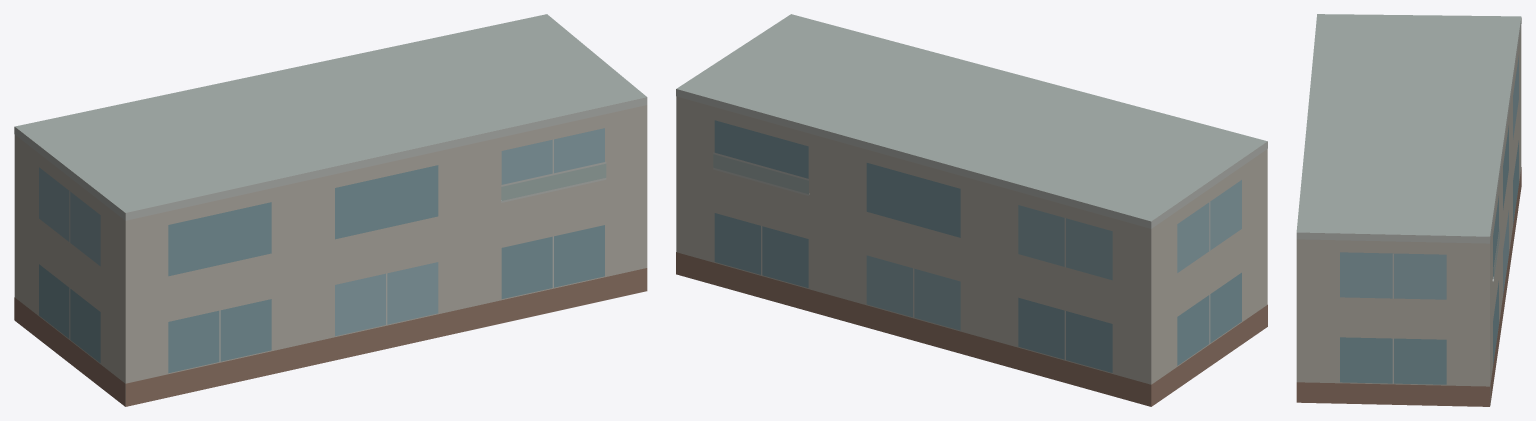
The model's file is survey-upis-32858110.glb.
3 views of the same model, side by side, from view 1: azimuth 30°, elevation 25°; view 2: azimuth 150°, elevation 25°; view 3: azimuth 270°, elevation 25° (orthographic). The views are drawn at different scales.
Parts seen in each view (by area): view 1: survey-upis-32858110.tmp; view 2: survey-upis-32858110.tmp; view 3: survey-upis-32858110.tmp.
Boxes of the visible parts, x1,y1,x2,y2 form: survey-upis-32858110.tmp: (14,14,647,406); survey-upis-32858110.tmp: (676,14,1267,406); survey-upis-32858110.tmp: (1296,14,1521,406).
Bounding box in the file's own units: 17.14 × 6.1 × 7.32.
